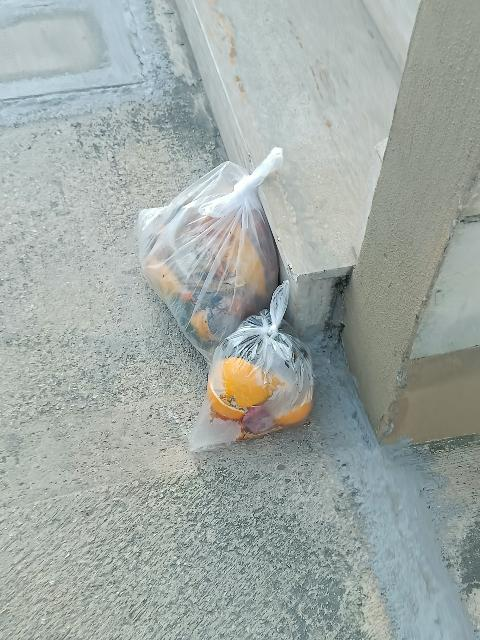Organic -White-: (138, 148, 283, 361), (190, 281, 314, 451)
